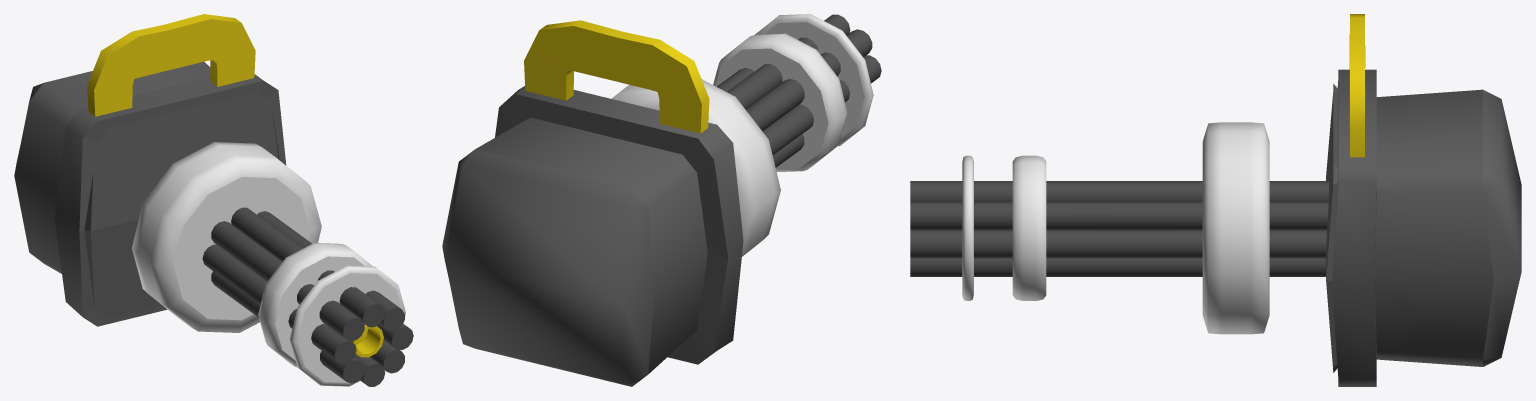
Rendered from DefenseUnitWeapon01.fbx.
3 views of the same model, side by side, from view 1: azimuth 30°, elevation 25°; view 2: azimuth 150°, elevation 25°; view 3: azimuth 270°, elevation 25° (orthographic). The views are drawn at different scales.
Visible parts, largest first — view 1: pasted__Lmg, pasted__Lmg.001; view 2: pasted__Lmg, pasted__Lmg.001; view 3: pasted__Lmg, pasted__Lmg.001.
Part boxes in pixels (bbox=[...]): pasted__Lmg: bbox=[14, 14, 286, 326]; pasted__Lmg.001: bbox=[132, 142, 413, 386]; pasted__Lmg: bbox=[442, 20, 743, 386]; pasted__Lmg.001: bbox=[611, 14, 881, 256]; pasted__Lmg: bbox=[1326, 14, 1521, 386]; pasted__Lmg.001: bbox=[910, 122, 1329, 334].
Bounding box in the file's own units: 106 × 126 × 230.
